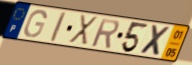5: (120, 21, 151, 54)
G: (22, 9, 48, 39)
I: (49, 10, 68, 43)
R: (90, 17, 121, 50)
X: (138, 24, 173, 59), (67, 14, 99, 48)
